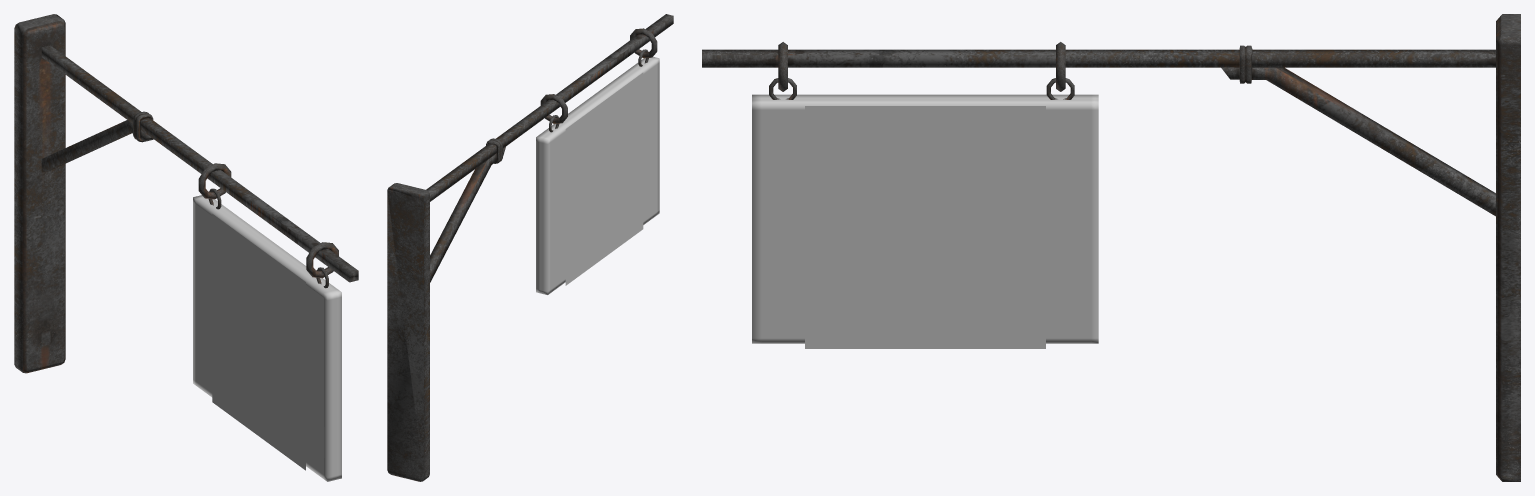
Rendered from SignArmory_mdl.fbx.
3 views of the same model, side by side, from view 1: azimuth 30°, elevation 25°; view 2: azimuth 150°, elevation 25°; view 3: azimuth 270°, elevation 25° (orthographic). The views are drawn at different scales.
Parts seen in each view (by area): view 1: SignArmory_LOD0; view 2: SignArmory_LOD0; view 3: SignArmory_LOD0.
Boxes of the visible parts, bbox=[...] form: SignArmory_LOD0: bbox=[14, 14, 358, 481]; SignArmory_LOD0: bbox=[387, 14, 673, 481]; SignArmory_LOD0: bbox=[702, 14, 1520, 481].
Size of the model in its own units: 16.19 by 121 by 202.
